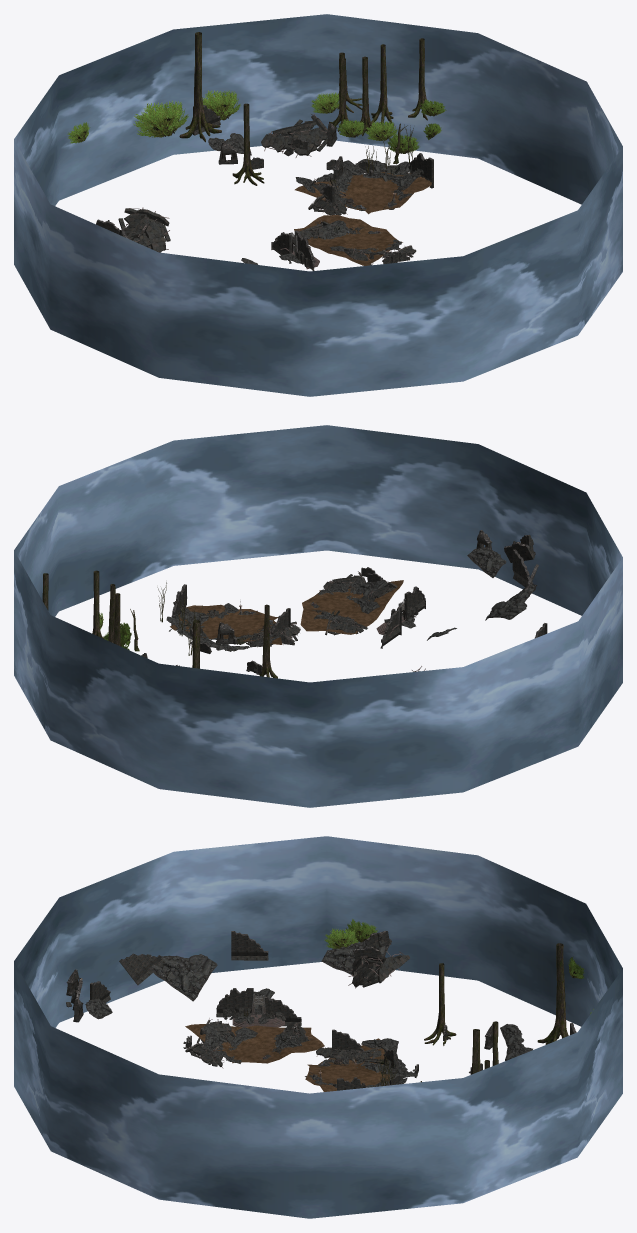
File: env_tak_mazcastle_ext_pre.glb
3 views of the same model, one above another, from view 1: azimuth 30°, elevation 25°; view 2: azimuth 150°, elevation 25°; view 3: azimuth 270°, elevation 25° (orthographic).
Visible parts, largest first — view 1: myg_bridge_skybox, tak_mazcastle_courtyard_ground_03, tak_mazcastle_courtyard_ground_03 (1), tak_mazcastle_ext_concrete_debris (3), tak_mazcastle_ext_concrete_debris (1), tak_mazcastle_bushes (11), sea_tree_01 (3), tak_mazcastle_bushes (12), sea_tree_01 (5), sea_tree_01 (7), sea_tree_01 (4), sea_tree_01 (9) (+2 smaller); view 2: myg_bridge_skybox, tak_mazcastle_courtyard_ground_03 (1), tak_mazcastle_courtyard_ground_03, zef_arena_rock_debris_c (13), zef_arena_rock_debris_b (1), sea_tree_01 (5); view 3: myg_bridge_skybox, tak_mazcastle_courtyard_ground_03 (1), zef_arena_rock_debris_c (13), tak_mazcastle_courtyard_ground_03, tak_mazcastle_ext_concrete_debris (1), sea_tree_01 (3), zef_arena_rock_debris_c (15), tak_mazcastle_ext_wall_destroyed_01 (2), tak_mazcastle_ext_wall_destroyed_01 (3), tak_mazcastle_ext_wall_destroyed_02 (1), sea_tree_01 (5), zef_arena_rock_debris (7) (+1 smaller).
Part boxes in pixels (left/top/right/bottom): myg_bridge_skybox: left=14, top=14, right=622, bottom=396; tak_mazcastle_courtyard_ground_03: left=295, top=172, right=431, bottom=214; tak_mazcastle_courtyard_ground_03 (1): left=294, top=215, right=402, bottom=265; tak_mazcastle_ext_concrete_debris (3): left=261, top=113, right=334, bottom=157; tak_mazcastle_ext_concrete_debris (1): left=118, top=207, right=170, bottom=252; tak_mazcastle_bushes (11): left=133, top=100, right=188, bottom=137; sea_tree_01 (3): left=179, top=32, right=221, bottom=142; tak_mazcastle_bushes (12): left=202, top=90, right=240, bottom=120; sea_tree_01 (5): left=232, top=103, right=264, bottom=185; sea_tree_01 (7): left=368, top=44, right=394, bottom=125; sea_tree_01 (4): left=408, top=38, right=430, bottom=120; sea_tree_01 (9): left=329, top=52, right=354, bottom=131; myg_bridge_skybox: left=14, top=425, right=622, bottom=807; tak_mazcastle_courtyard_ground_03 (1): left=300, top=580, right=403, bottom=634; tak_mazcastle_courtyard_ground_03: left=170, top=604, right=282, bottom=644; zef_arena_rock_debris_c (13): left=485, top=583, right=536, bottom=620; zef_arena_rock_debris_b (1): left=467, top=547, right=506, bottom=577; sea_tree_01 (5): left=259, top=604, right=277, bottom=678; myg_bridge_skybox: left=14, top=836, right=622, bottom=1218; tak_mazcastle_courtyard_ground_03 (1): left=185, top=1024, right=324, bottom=1063; zef_arena_rock_debris_c (13): left=148, top=954, right=217, bottom=1001; tak_mazcastle_courtyard_ground_03: left=305, top=1038, right=389, bottom=1091; tak_mazcastle_ext_concrete_debris (1): left=348, top=951, right=409, bottom=988; sea_tree_01 (3): left=537, top=943, right=568, bottom=1044; zef_arena_rock_debris_c (15): left=321, top=939, right=391, bottom=980; tak_mazcastle_ext_wall_destroyed_01 (2): left=231, top=931, right=268, bottom=960; tak_mazcastle_ext_wall_destroyed_01 (3): left=119, top=953, right=165, bottom=985; tak_mazcastle_ext_wall_destroyed_02 (1): left=216, top=988, right=253, bottom=1017; sea_tree_01 (5): left=424, top=963, right=456, bottom=1045; zef_arena_rock_debris (7): left=500, top=1024, right=532, bottom=1060.
Bounding box in the file's own units: 207 × 54.75 × 207.
21 materials, 21 textured.
